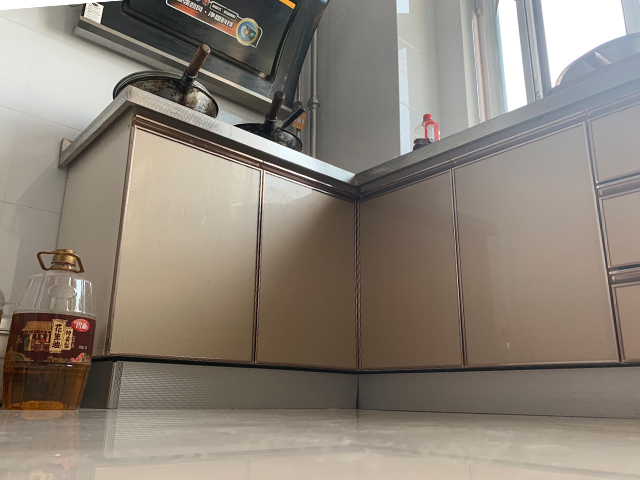cabinet: (349, 101, 640, 421), (63, 89, 354, 409)
